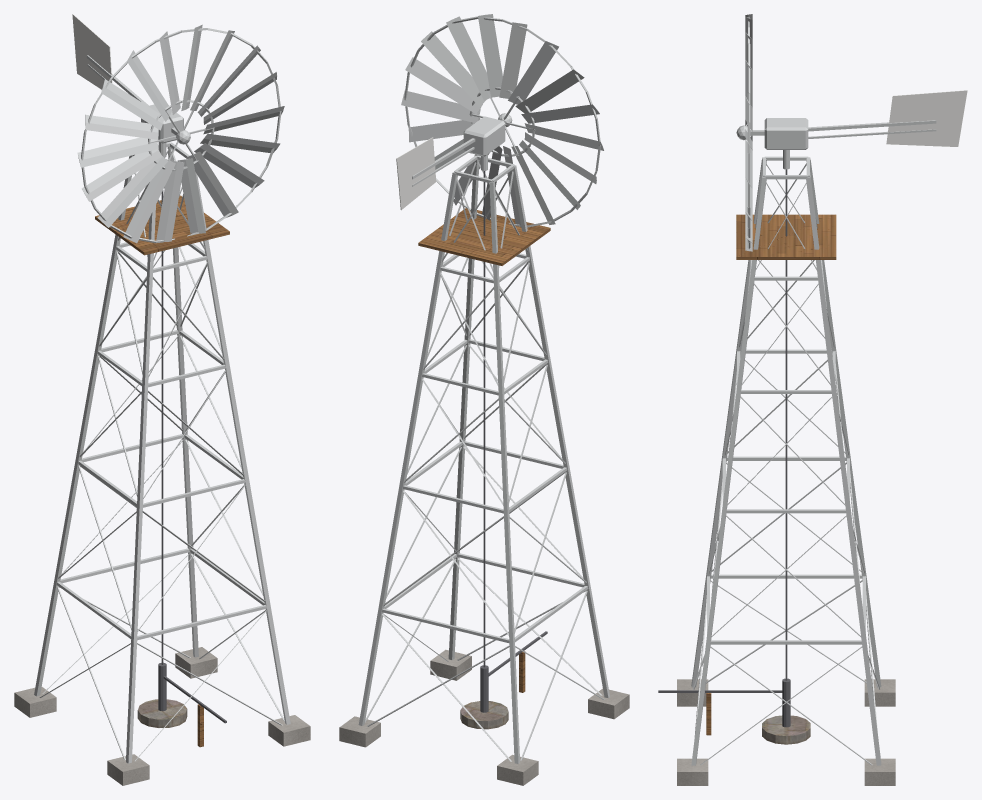
File: windmill.glb
The picture shows the model from 3 angles, left to right: view 1: azimuth 30°, elevation 25°; view 2: azimuth 150°, elevation 25°; view 3: azimuth 270°, elevation 25°; orthographic projection. The views are drawn at different scales.
Parts seen in each view (by area): view 1: windmill_galv, windmill_concrete, windmill_wood, windmill_iron, windmill_paint_w, windmill_stone; view 2: windmill_galv, windmill_wood, windmill_concrete, windmill_iron, windmill_paint_w, windmill_stone; view 3: windmill_galv, windmill_wood, windmill_paint_w, windmill_concrete, windmill_iron, windmill_stone.
Part boxes in pixels (x1,y1,x2,y2): windmill_galv: (34,24,290,763); windmill_concrete: (14,647,310,785); windmill_wood: (95,195,229,747); windmill_iron: (158,190,226,723); windmill_paint_w: (72,14,112,89); windmill_stone: (137,699,187,727); windmill_galv: (358,14,609,763); windmill_wood: (418,208,550,692); windmill_concrete: (339,649,629,785); windmill_iron: (480,171,547,712); windmill_paint_w: (396,137,436,210); windmill_stone: (460,701,508,729); windmill_galv: (691,14,936,765); windmill_wood: (706,214,836,735); windmill_paint_w: (886,90,967,146); windmill_concrete: (677,679,895,785); windmill_iron: (658,169,790,727); windmill_stone: (762,715,810,744).
Bounding box in the file's own units: 3.8 × 12.61 × 4.95.
Materials: 6 (3 with a texture image).
